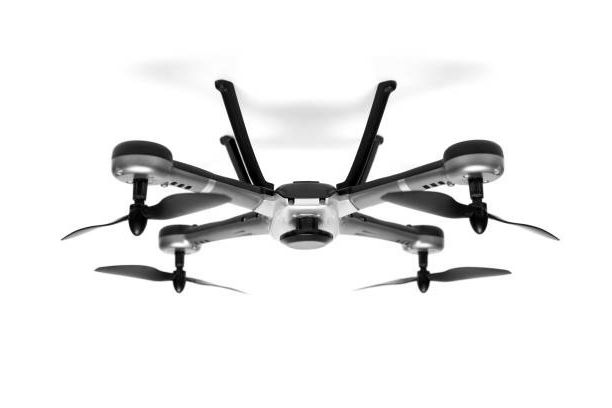Drone: (59, 73, 563, 293)
